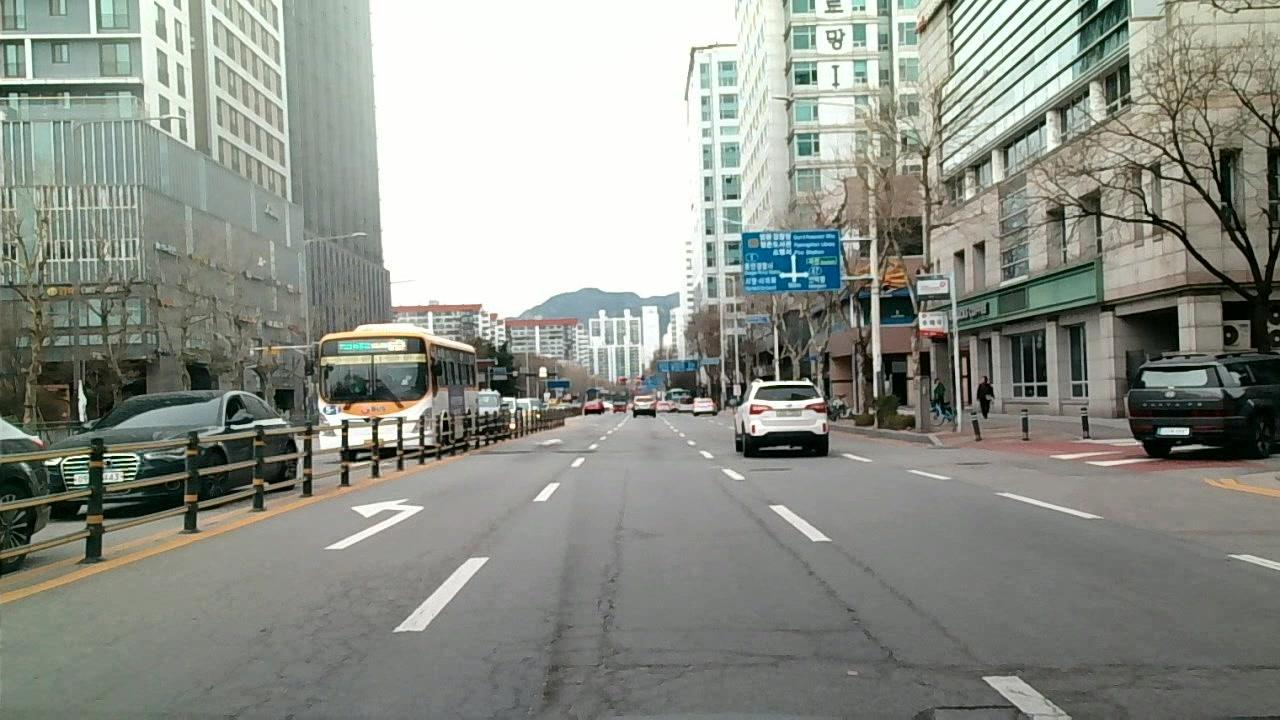erosion: (206, 565, 429, 720), (997, 647, 1280, 720), (491, 636, 688, 720), (593, 524, 635, 636)
vcrack: (747, 518, 899, 668), (844, 555, 994, 675)
